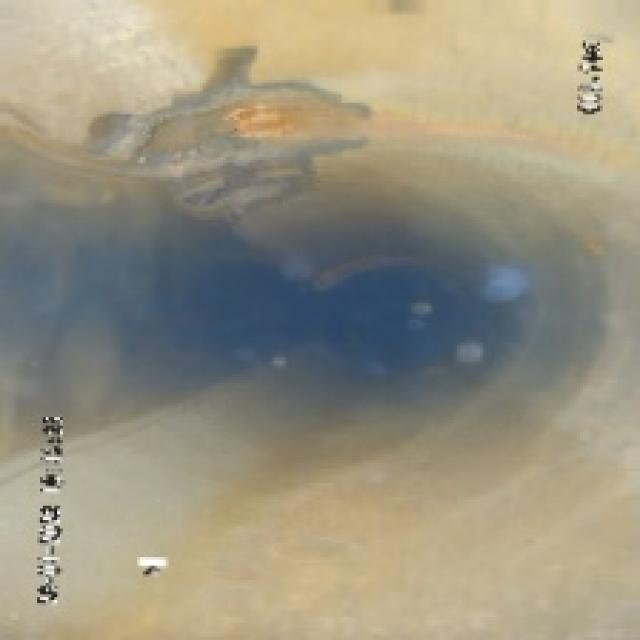pipe_surface_damage: (91, 52, 392, 208)
